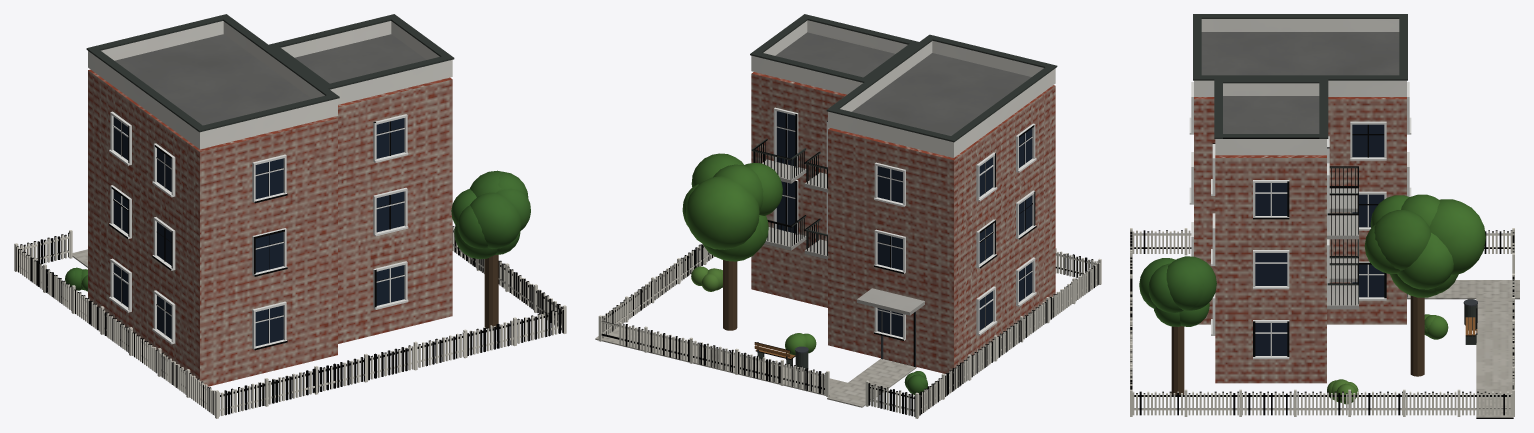
The model's file is dum_1b_byty_cihlove.glb.
3 renders of one model, left to right at view 1: azimuth 30°, elevation 25°; view 2: azimuth 150°, elevation 25°; view 3: azimuth 270°, elevation 25°, orthographic. The views are drawn at different scales.
Visible parts, largest first — view 1: cihly; view 2: cihly; view 3: cihly.
Part boxes in pixels (left/top/right/bottom): cihly: left=14, top=14, right=566, bottom=418; cihly: left=595, top=14, right=1101, bottom=418; cihly: left=1130, top=14, right=1519, bottom=418.
Size of the model in its own units: 14.6 by 10.38 by 14.6.
1 material, 1 textured.
